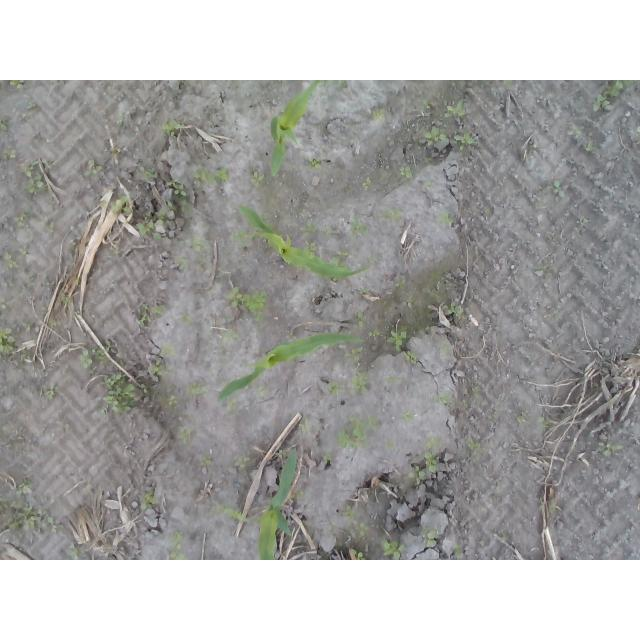Maize: (219, 333, 365, 403), (239, 204, 367, 281), (269, 80, 323, 181), (256, 445, 297, 560)
Weeds: (2, 495, 58, 534), (422, 99, 466, 146), (97, 369, 136, 415), (223, 286, 267, 322), (593, 80, 640, 112), (14, 158, 46, 193), (336, 417, 369, 450), (165, 178, 193, 212), (192, 166, 231, 186), (425, 435, 443, 476), (379, 536, 405, 561), (302, 222, 320, 257), (453, 129, 480, 152), (168, 529, 188, 560), (384, 328, 409, 352), (596, 440, 624, 457), (217, 503, 243, 521), (350, 371, 370, 394), (407, 464, 428, 484), (351, 214, 370, 236), (420, 526, 440, 546), (84, 158, 104, 178), (0, 328, 16, 353), (0, 80, 24, 96), (111, 194, 130, 214), (344, 345, 365, 363), (466, 437, 483, 459), (185, 382, 208, 398), (234, 230, 255, 247), (135, 303, 150, 326), (161, 120, 182, 136), (141, 487, 156, 509), (542, 175, 560, 193), (224, 397, 241, 416), (336, 239, 353, 258), (79, 348, 94, 369), (192, 234, 208, 253), (175, 425, 191, 444), (444, 303, 464, 318), (2, 144, 19, 161), (39, 384, 57, 400), (16, 478, 32, 495), (432, 391, 449, 407), (342, 504, 359, 520), (354, 522, 371, 538), (94, 345, 111, 361), (369, 415, 384, 433), (136, 220, 155, 234), (250, 171, 266, 187), (148, 360, 164, 376), (383, 207, 401, 221), (159, 393, 177, 407), (537, 416, 552, 432), (403, 350, 418, 366), (299, 416, 313, 433), (583, 144, 601, 157), (15, 211, 30, 226), (545, 304, 559, 320), (625, 126, 640, 140), (372, 108, 386, 123), (354, 312, 366, 329), (327, 80, 349, 89), (401, 409, 415, 423), (319, 451, 333, 465), (233, 455, 248, 468), (400, 166, 415, 179), (404, 296, 419, 309), (42, 216, 54, 232), (305, 158, 321, 170), (160, 344, 176, 356), (222, 332, 241, 342), (352, 549, 369, 560), (439, 207, 449, 225), (368, 327, 385, 337), (384, 375, 401, 385), (255, 384, 265, 401), (548, 501, 562, 513), (142, 166, 154, 180), (69, 547, 84, 558), (323, 222, 333, 238), (361, 176, 371, 192), (180, 312, 192, 324), (421, 180, 433, 192), (327, 384, 339, 396), (450, 544, 462, 556), (153, 303, 167, 313), (575, 216, 589, 226), (440, 344, 450, 358), (199, 455, 213, 465), (328, 519, 337, 534), (27, 101, 39, 112), (298, 208, 312, 217), (400, 275, 409, 289), (180, 255, 189, 269), (574, 127, 586, 137), (384, 439, 396, 449), (0, 118, 8, 132), (295, 488, 306, 498), (157, 211, 167, 222), (371, 534, 380, 546), (151, 231, 161, 241), (446, 80, 456, 90), (8, 259, 18, 269), (503, 81, 514, 90), (359, 288, 369, 297), (478, 80, 489, 88), (22, 323, 30, 334), (472, 386, 481, 395), (18, 248, 27, 257), (423, 157, 433, 164), (62, 296, 67, 305)
